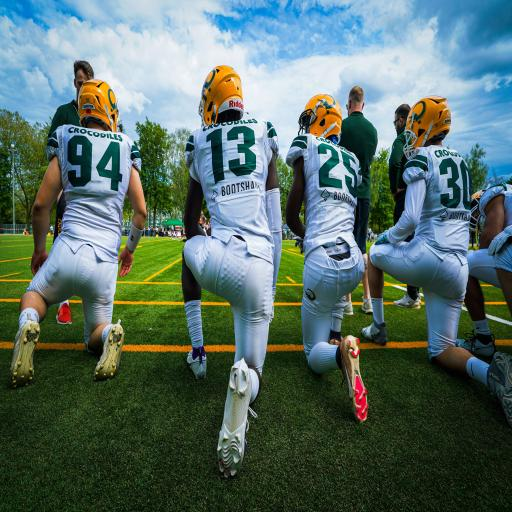shoe: (217, 359, 256, 477), (340, 336, 368, 422), (10, 320, 40, 388), (487, 352, 511, 427), (95, 320, 123, 380), (456, 330, 496, 357), (187, 347, 206, 379), (362, 322, 387, 345), (394, 294, 420, 308), (56, 303, 72, 324), (329, 330, 341, 345), (362, 299, 373, 314), (344, 301, 353, 315), (270, 300, 274, 322)
